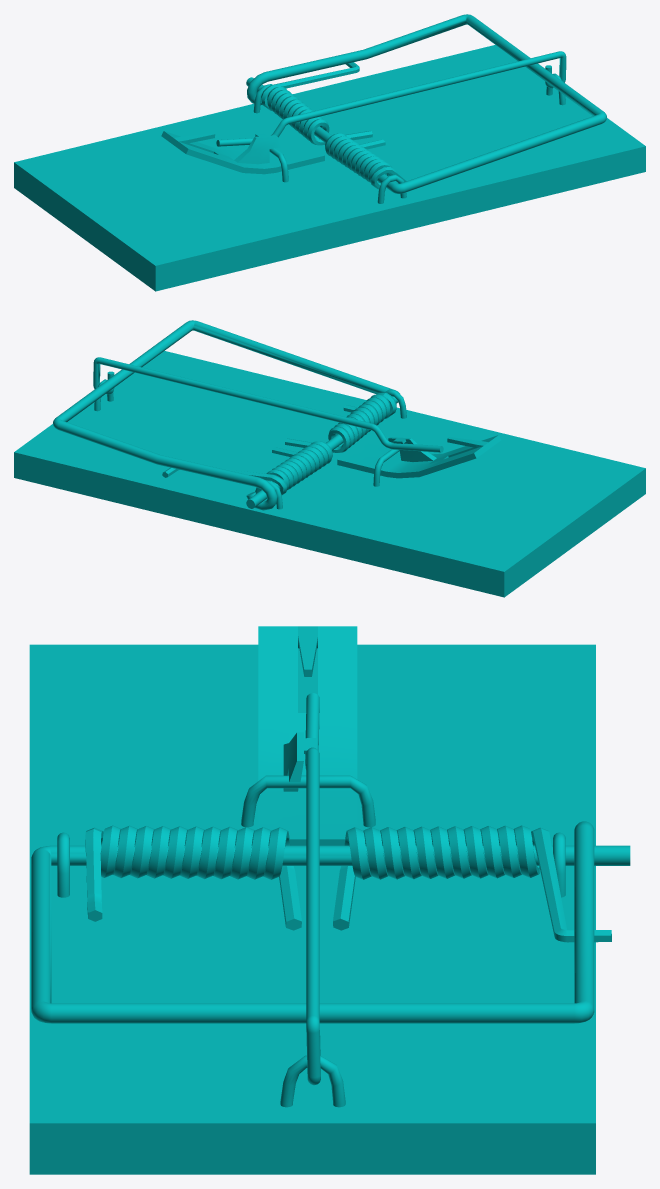
The model's file is RatTrap_FBX.fbx.
3 views of the same model, one above another, from view 1: azimuth 30°, elevation 25°; view 2: azimuth 150°, elevation 25°; view 3: azimuth 270°, elevation 25° (orthographic). The views are drawn at different scales.
Visible parts, largest first — view 1: Board, Crush_Bar, Front_Piece, Middle_Tube, Right_Spring, Left_Spring; view 2: Board, Crush_Bar, Front_Piece, Middle_Tube, Right_Spring, Left_Spring; view 3: Board, Crush_Bar, Front_Piece, Right_Spring, Left_Spring, Middle_Tube, Middle_Buckle, Back_Buckle, Left_Buckle.
Boxes of the visible parts, x1,y1,x2,y2 form: Board: (14,45,645,291); Crush_Bar: (246,14,606,193); Front_Piece: (161,131,324,174); Middle_Tube: (216,51,566,146); Right_Spring: (261,62,372,145); Left_Spring: (325,133,407,189); Board: (14,351,645,597); Crush_Bar: (53,320,399,510); Front_Piece: (337,435,500,478); Middle_Tube: (93,357,443,452); Right_Spring: (162,441,332,495); Left_Spring: (285,392,396,452); Board: (29,644,595,1174); Crush_Bar: (31,821,630,1023); Front_Piece: (258,626,357,845); Right_Spring: (333,825,611,942); Left_Spring: (85,825,301,930); Middle_Tube: (305,693,320,1085); Middle_Buckle: (241,775,375,827); Back_Buckle: (280,1055,345,1107); Left_Buckle: (57,832,69,897).
Size of the model in its own units: 10 by 1.54 by 5.3.
